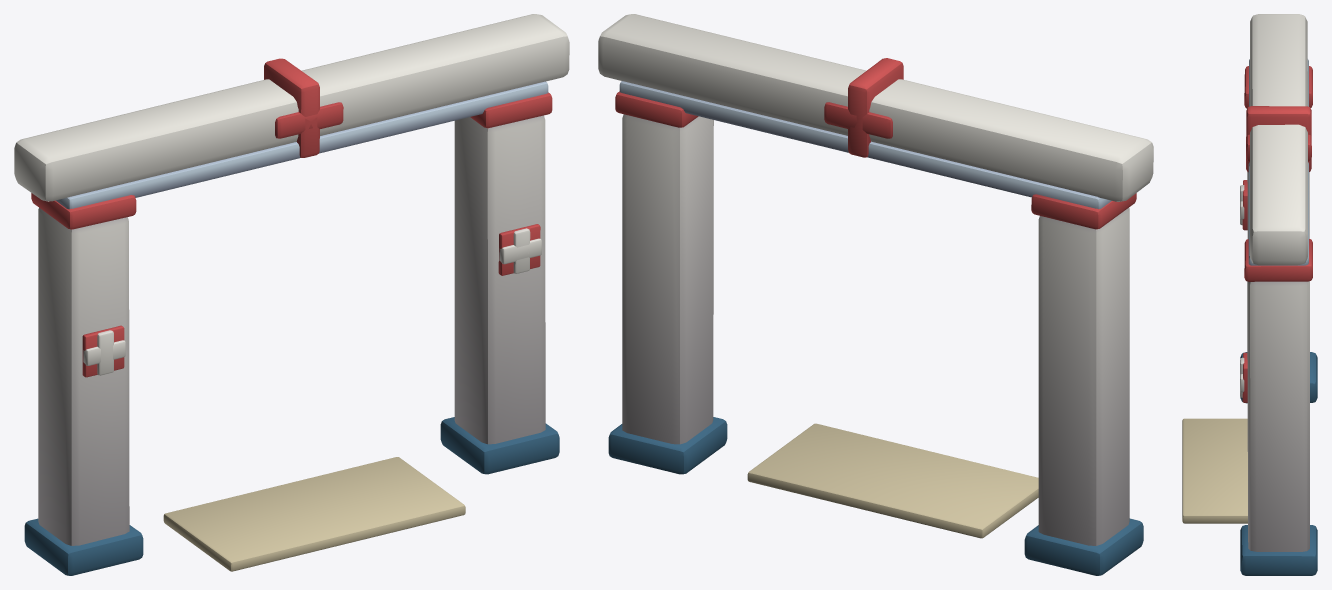
3 renders of one model, left to right at view 1: azimuth 30°, elevation 25°; view 2: azimuth 150°, elevation 25°; view 3: azimuth 270°, elevation 25°, orthographic. The views are drawn at different scales.
Visible parts, largest first — view 1: gate_59ff6dbe; view 2: gate_59ff6dbe; view 3: gate_59ff6dbe.
Boxes of the visible parts, x1,y1,x2,y2 form: gate_59ff6dbe: (14, 14, 569, 575); gate_59ff6dbe: (598, 14, 1153, 575); gate_59ff6dbe: (1182, 14, 1317, 575).
Bounding box in the file's own units: 5.39 × 4.2 × 1.4.
